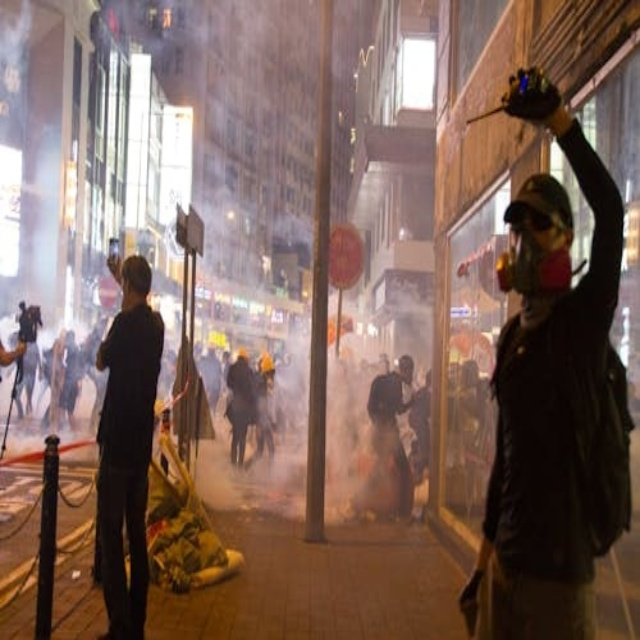Gafas: (506, 208, 571, 236)
Mascara: (492, 225, 575, 302)
